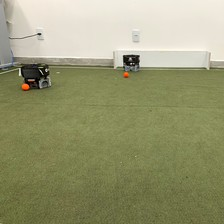ball: (19, 80, 31, 91), (122, 70, 132, 79)
goal: (110, 46, 212, 72)
robot: (19, 60, 53, 90), (120, 54, 142, 72)
